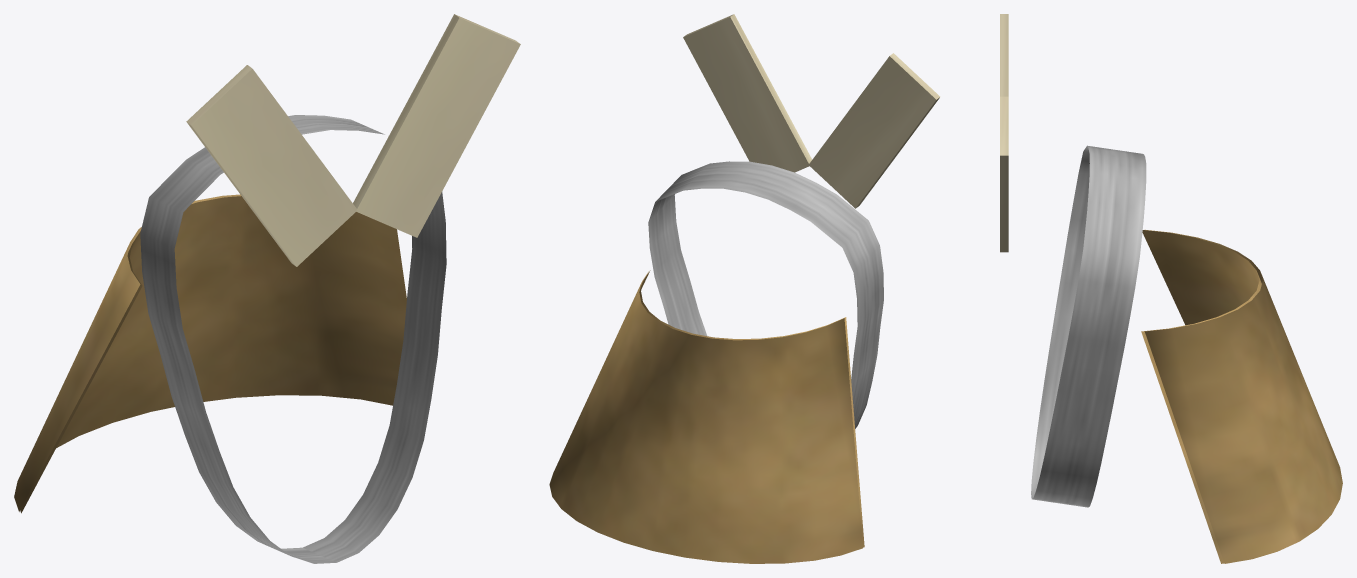
File: helmet_moch_market_n.dae
3 views of the same model, side by side, from view 1: azimuth 30°, elevation 25°; view 2: azimuth 150°, elevation 25°; view 3: azimuth 270°, elevation 25° (orthographic). The views are drawn at different scales.
Visible parts, largest first — view 1: helmet_moch_market_n; view 2: helmet_moch_market_n; view 3: helmet_moch_market_n.
Boxes of the visible parts, x1,y1,x2,y2 form: helmet_moch_market_n: [14, 14, 520, 563]; helmet_moch_market_n: [549, 14, 940, 563]; helmet_moch_market_n: [1000, 14, 1342, 563].
Size of the model in its own units: 0.7223 by 0.7071 by 0.9323.
